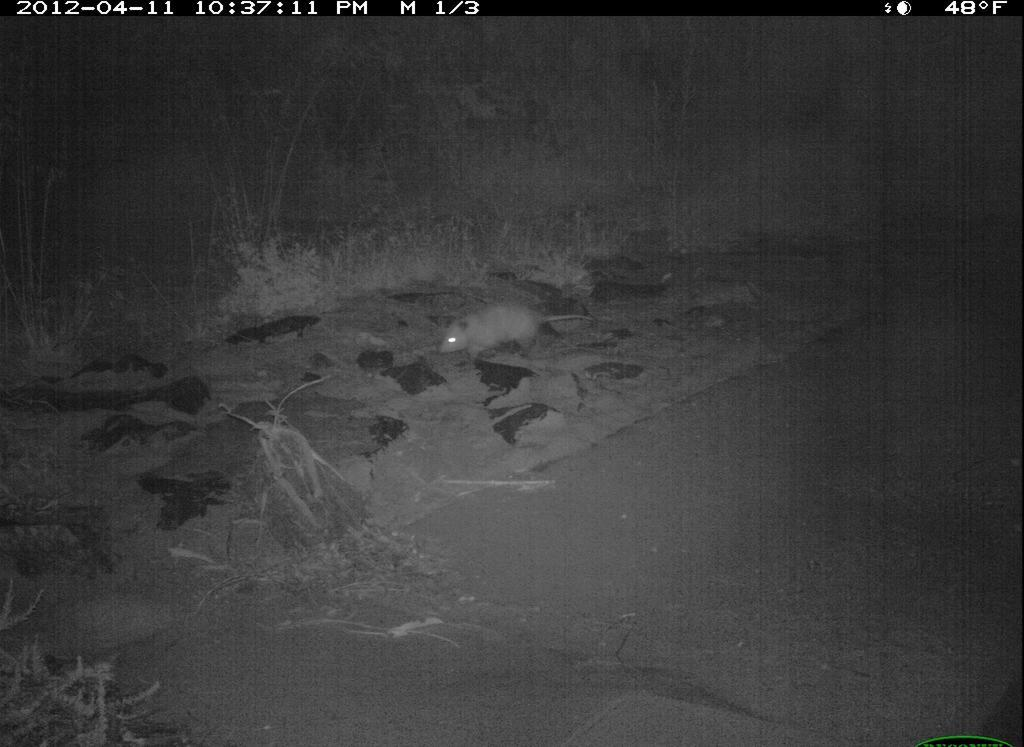opossum: (432, 294, 585, 367)
